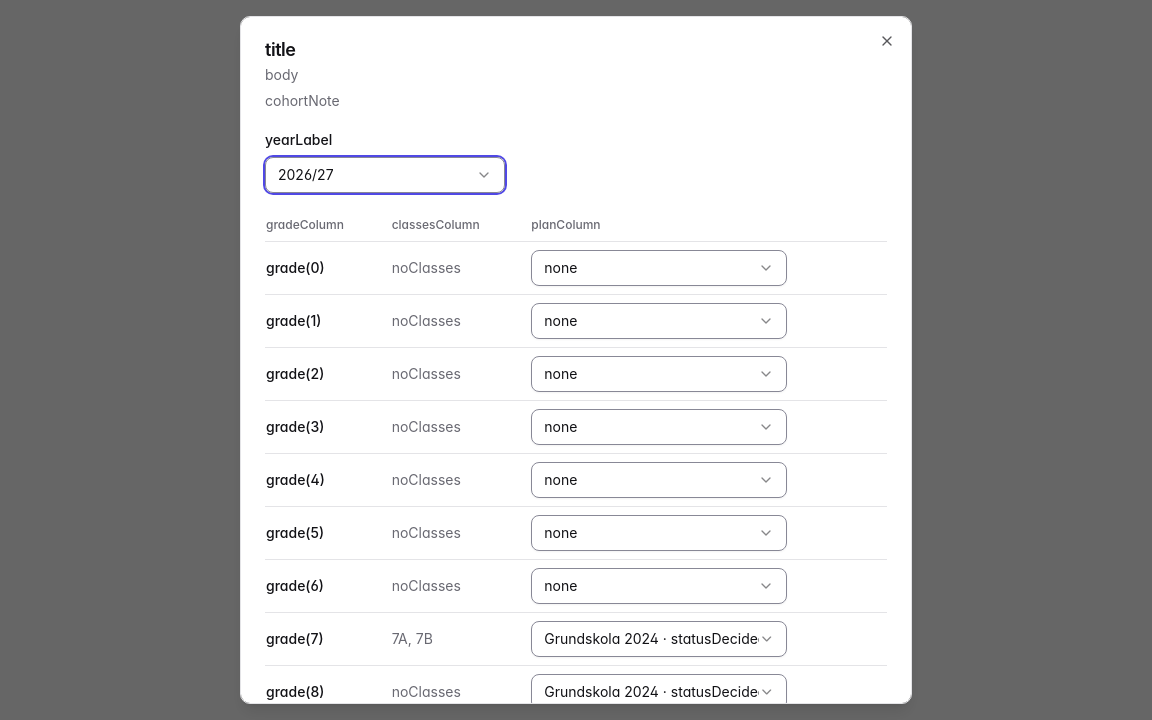
YearTimplansDialog › keeps the dialog open with the gateway's sentence when the save is refused
This screenshot has width=1152, height=720.
Click the dropdown labelled "none" in the row of "grade(0)": (659, 268) [531,250,787,286]
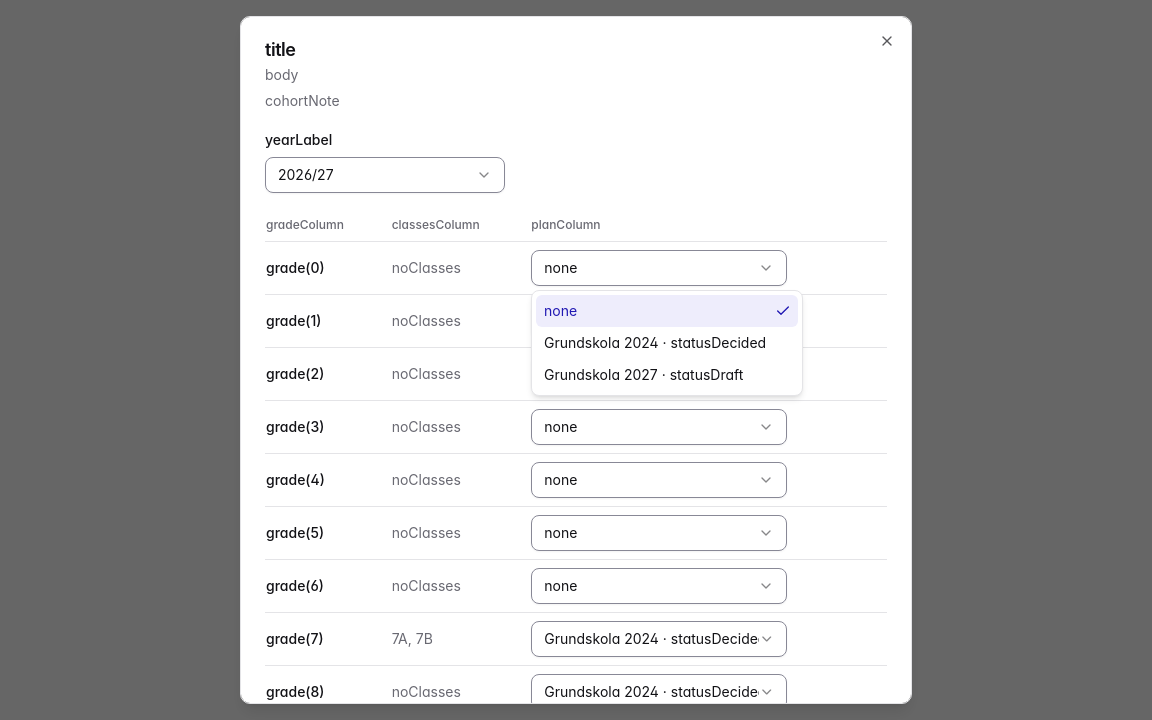
Click the option "Grundskola 2024 · statusDecided": (655, 342) [544,334,766,351]
(page scrolled)
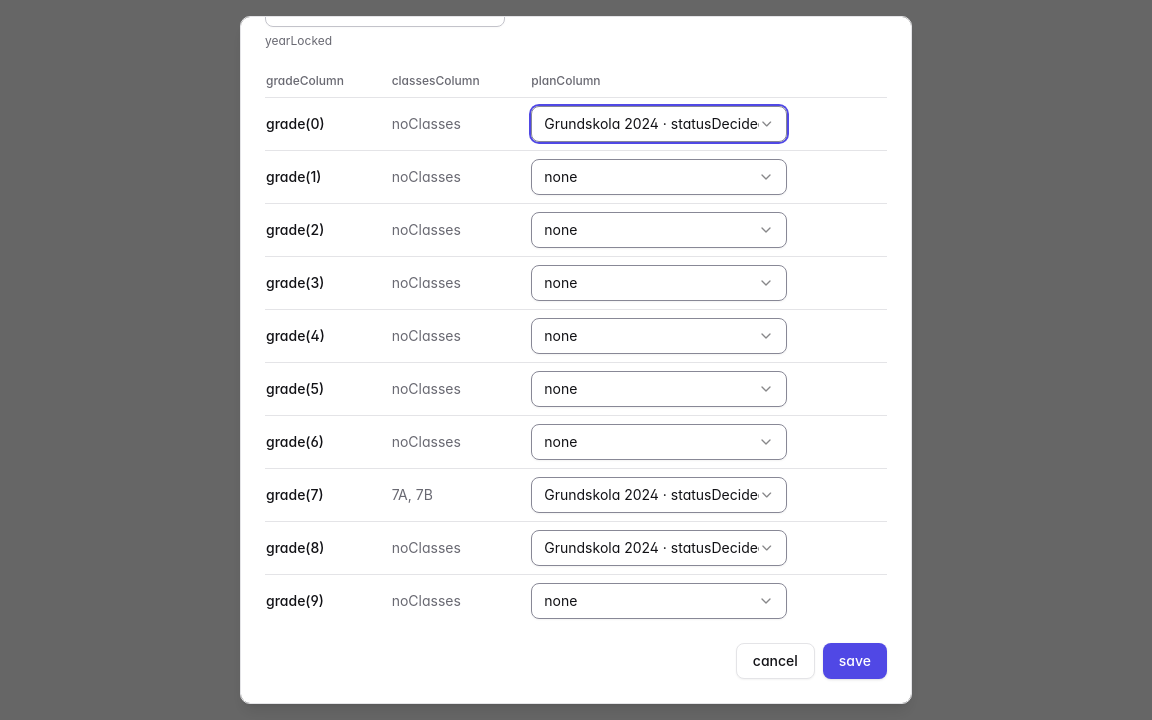
Click the button "save": (855, 661) [823,643,887,679]
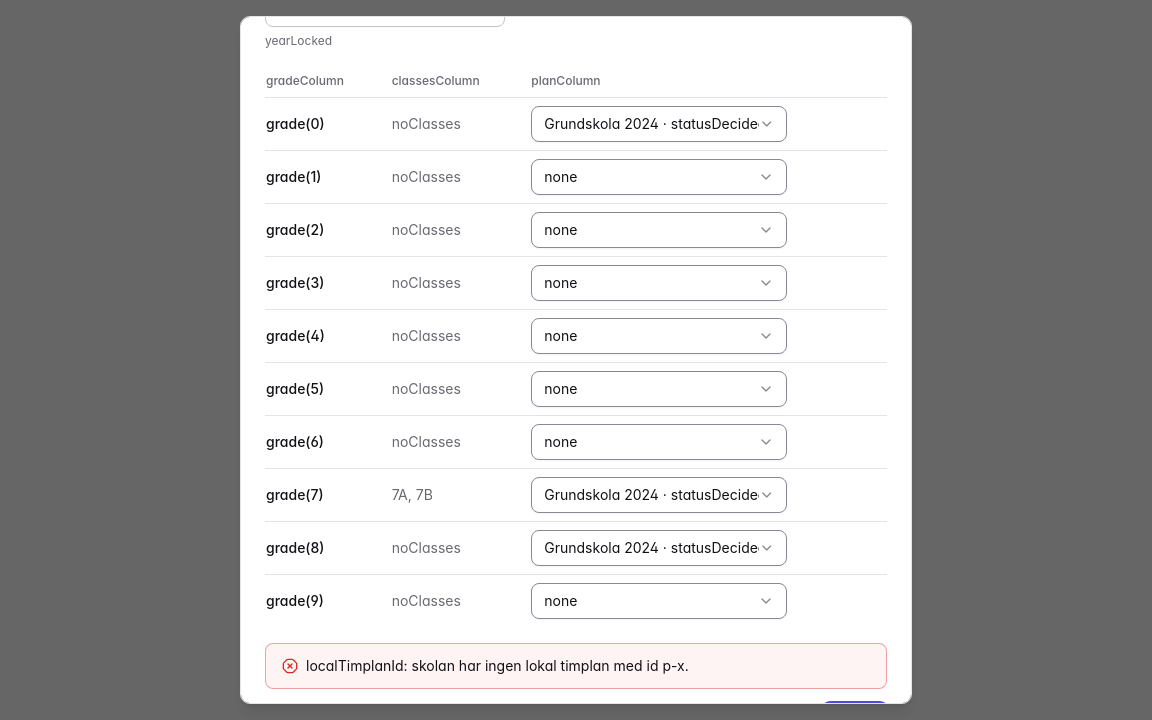
Check: the message shows "skolan har ingen lokal timplan", box [306,657,689,674]
